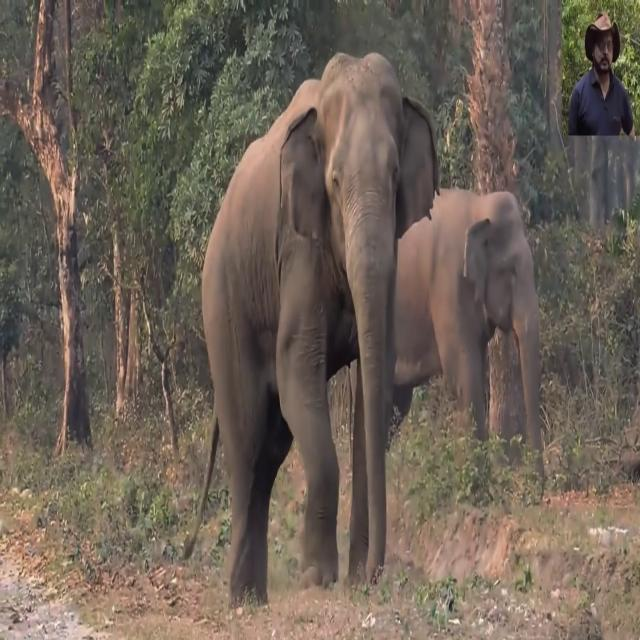Elephant: (181, 50, 440, 607), (326, 185, 545, 485)
